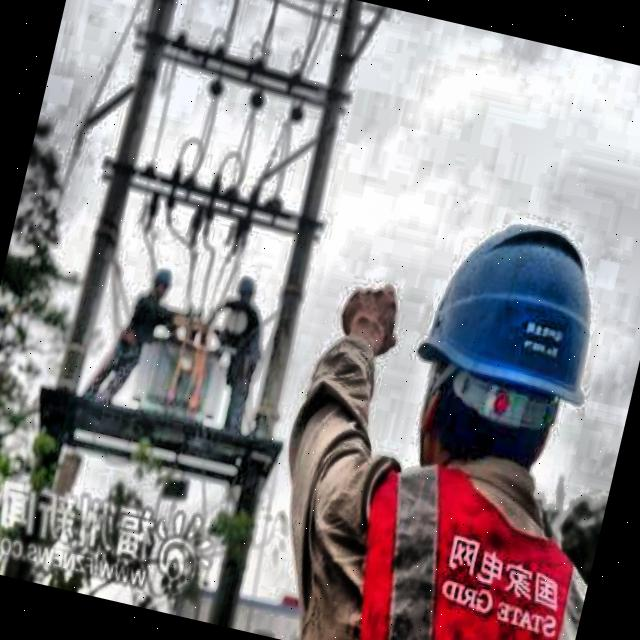helmet: (367, 164, 640, 536)
